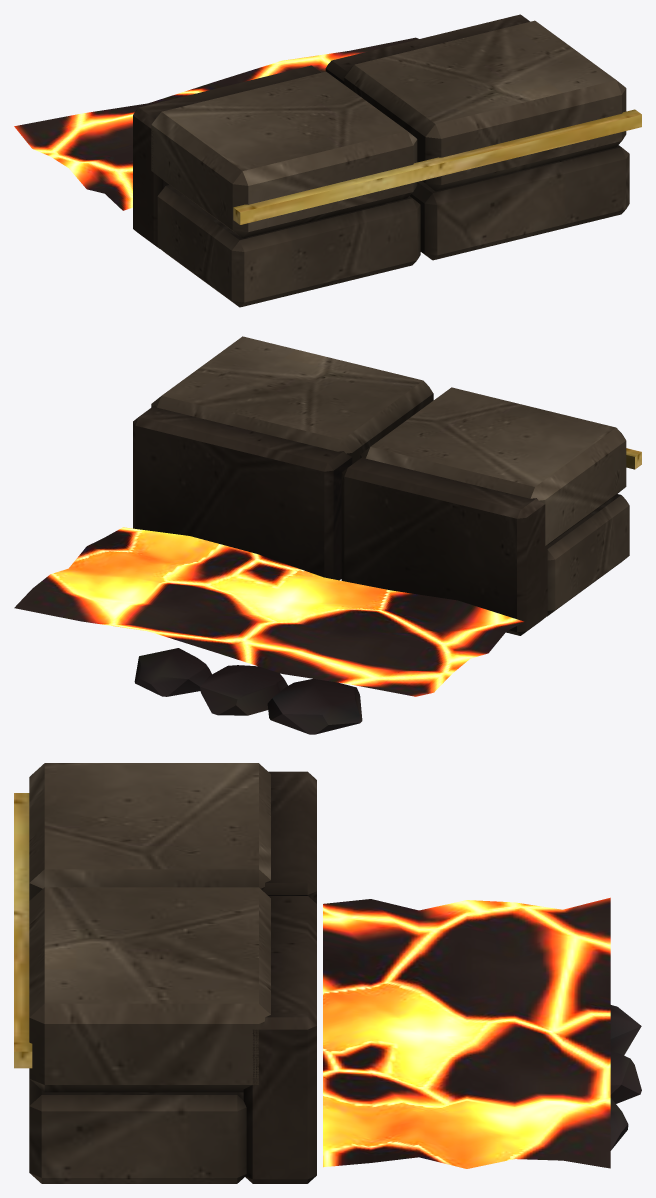
File: nidavellir_lava_edge.glb
The picture shows the model from 3 angles, top to bottom: view 1: azimuth 30°, elevation 25°; view 2: azimuth 150°, elevation 25°; view 3: azimuth 270°, elevation 25°; orthographic projection. The views are drawn at different scales.
Visible parts, largest first — view 1: nidavellir_lava_edge; view 2: nidavellir_lava_edge; view 3: nidavellir_lava_edge.
Boxes of the visible parts, x1=… form: nidavellir_lava_edge: x1=14, y1=14, x2=641, y2=307; nidavellir_lava_edge: x1=14, y1=336, x2=641, y2=734; nidavellir_lava_edge: x1=14, y1=763, x2=641, y2=1183.
Size of the model in its own units: 1 by 0.39 by 1.03.
Materials: 4 (3 with a texture image).
